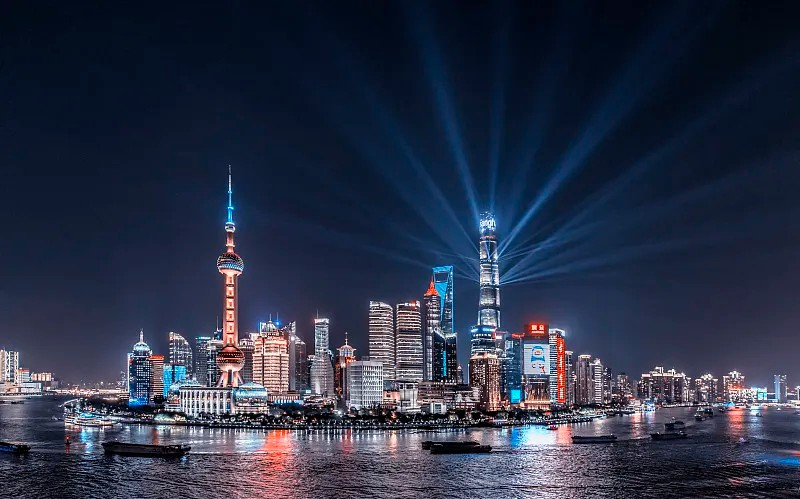Oriental: (215, 164, 246, 388)
